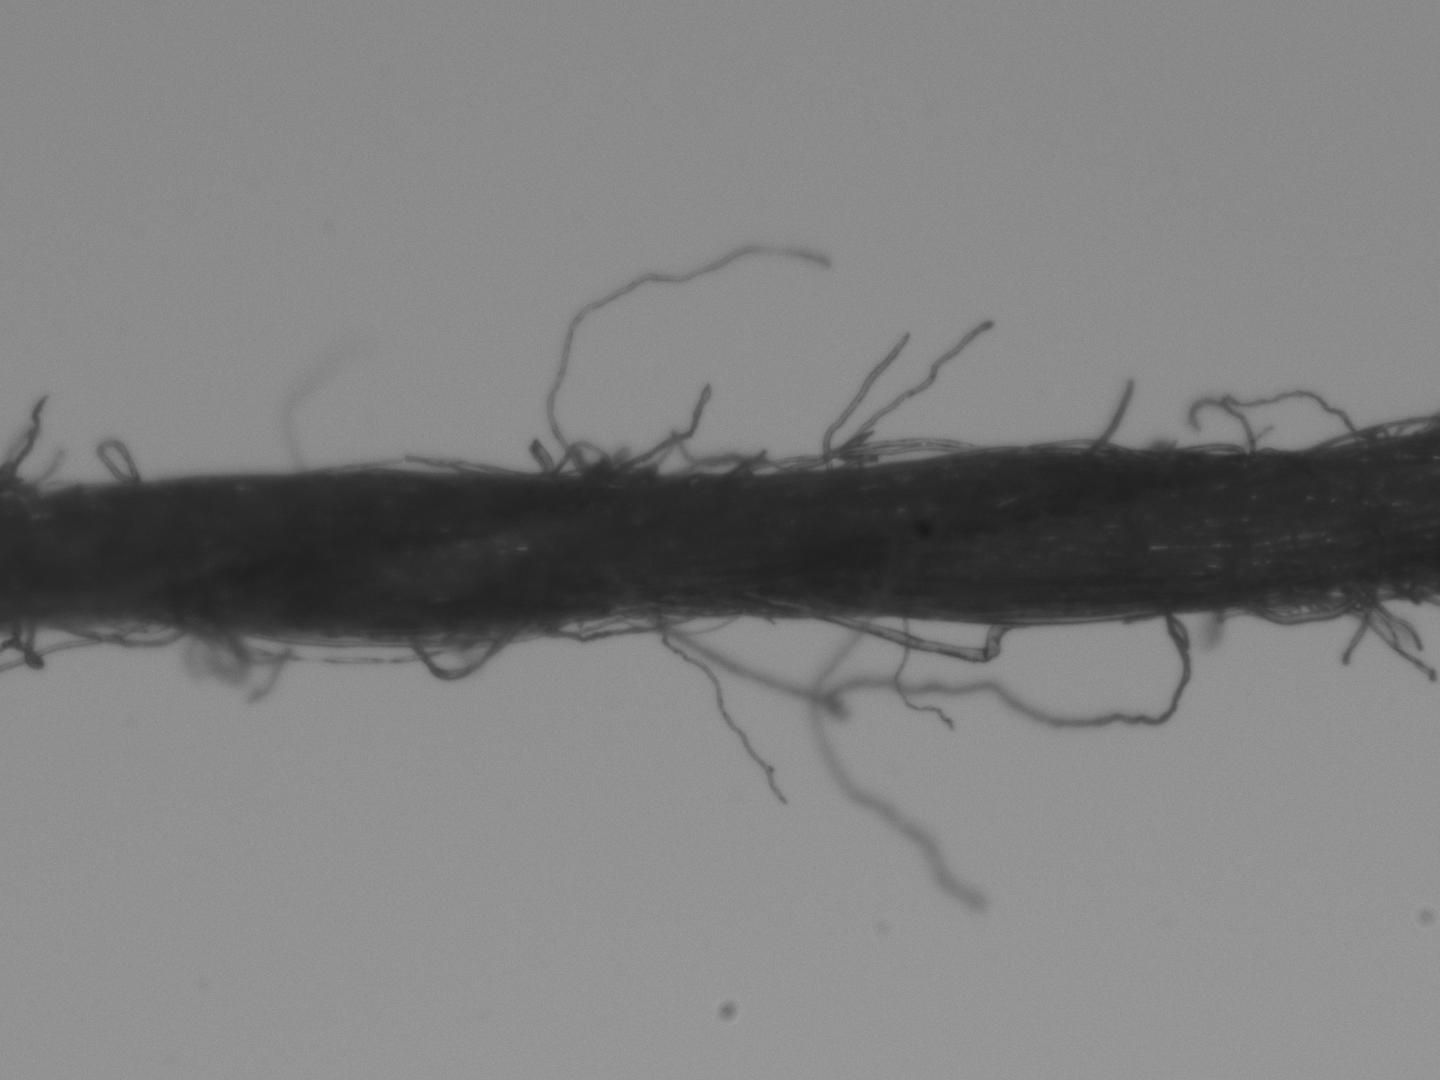loop_fiber: (808, 609, 1014, 663), (408, 619, 525, 686), (795, 433, 983, 473), (1243, 582, 1367, 624), (542, 609, 684, 644), (43, 617, 179, 649), (545, 437, 617, 482), (679, 452, 786, 476), (95, 438, 136, 486), (1180, 438, 1246, 455)
